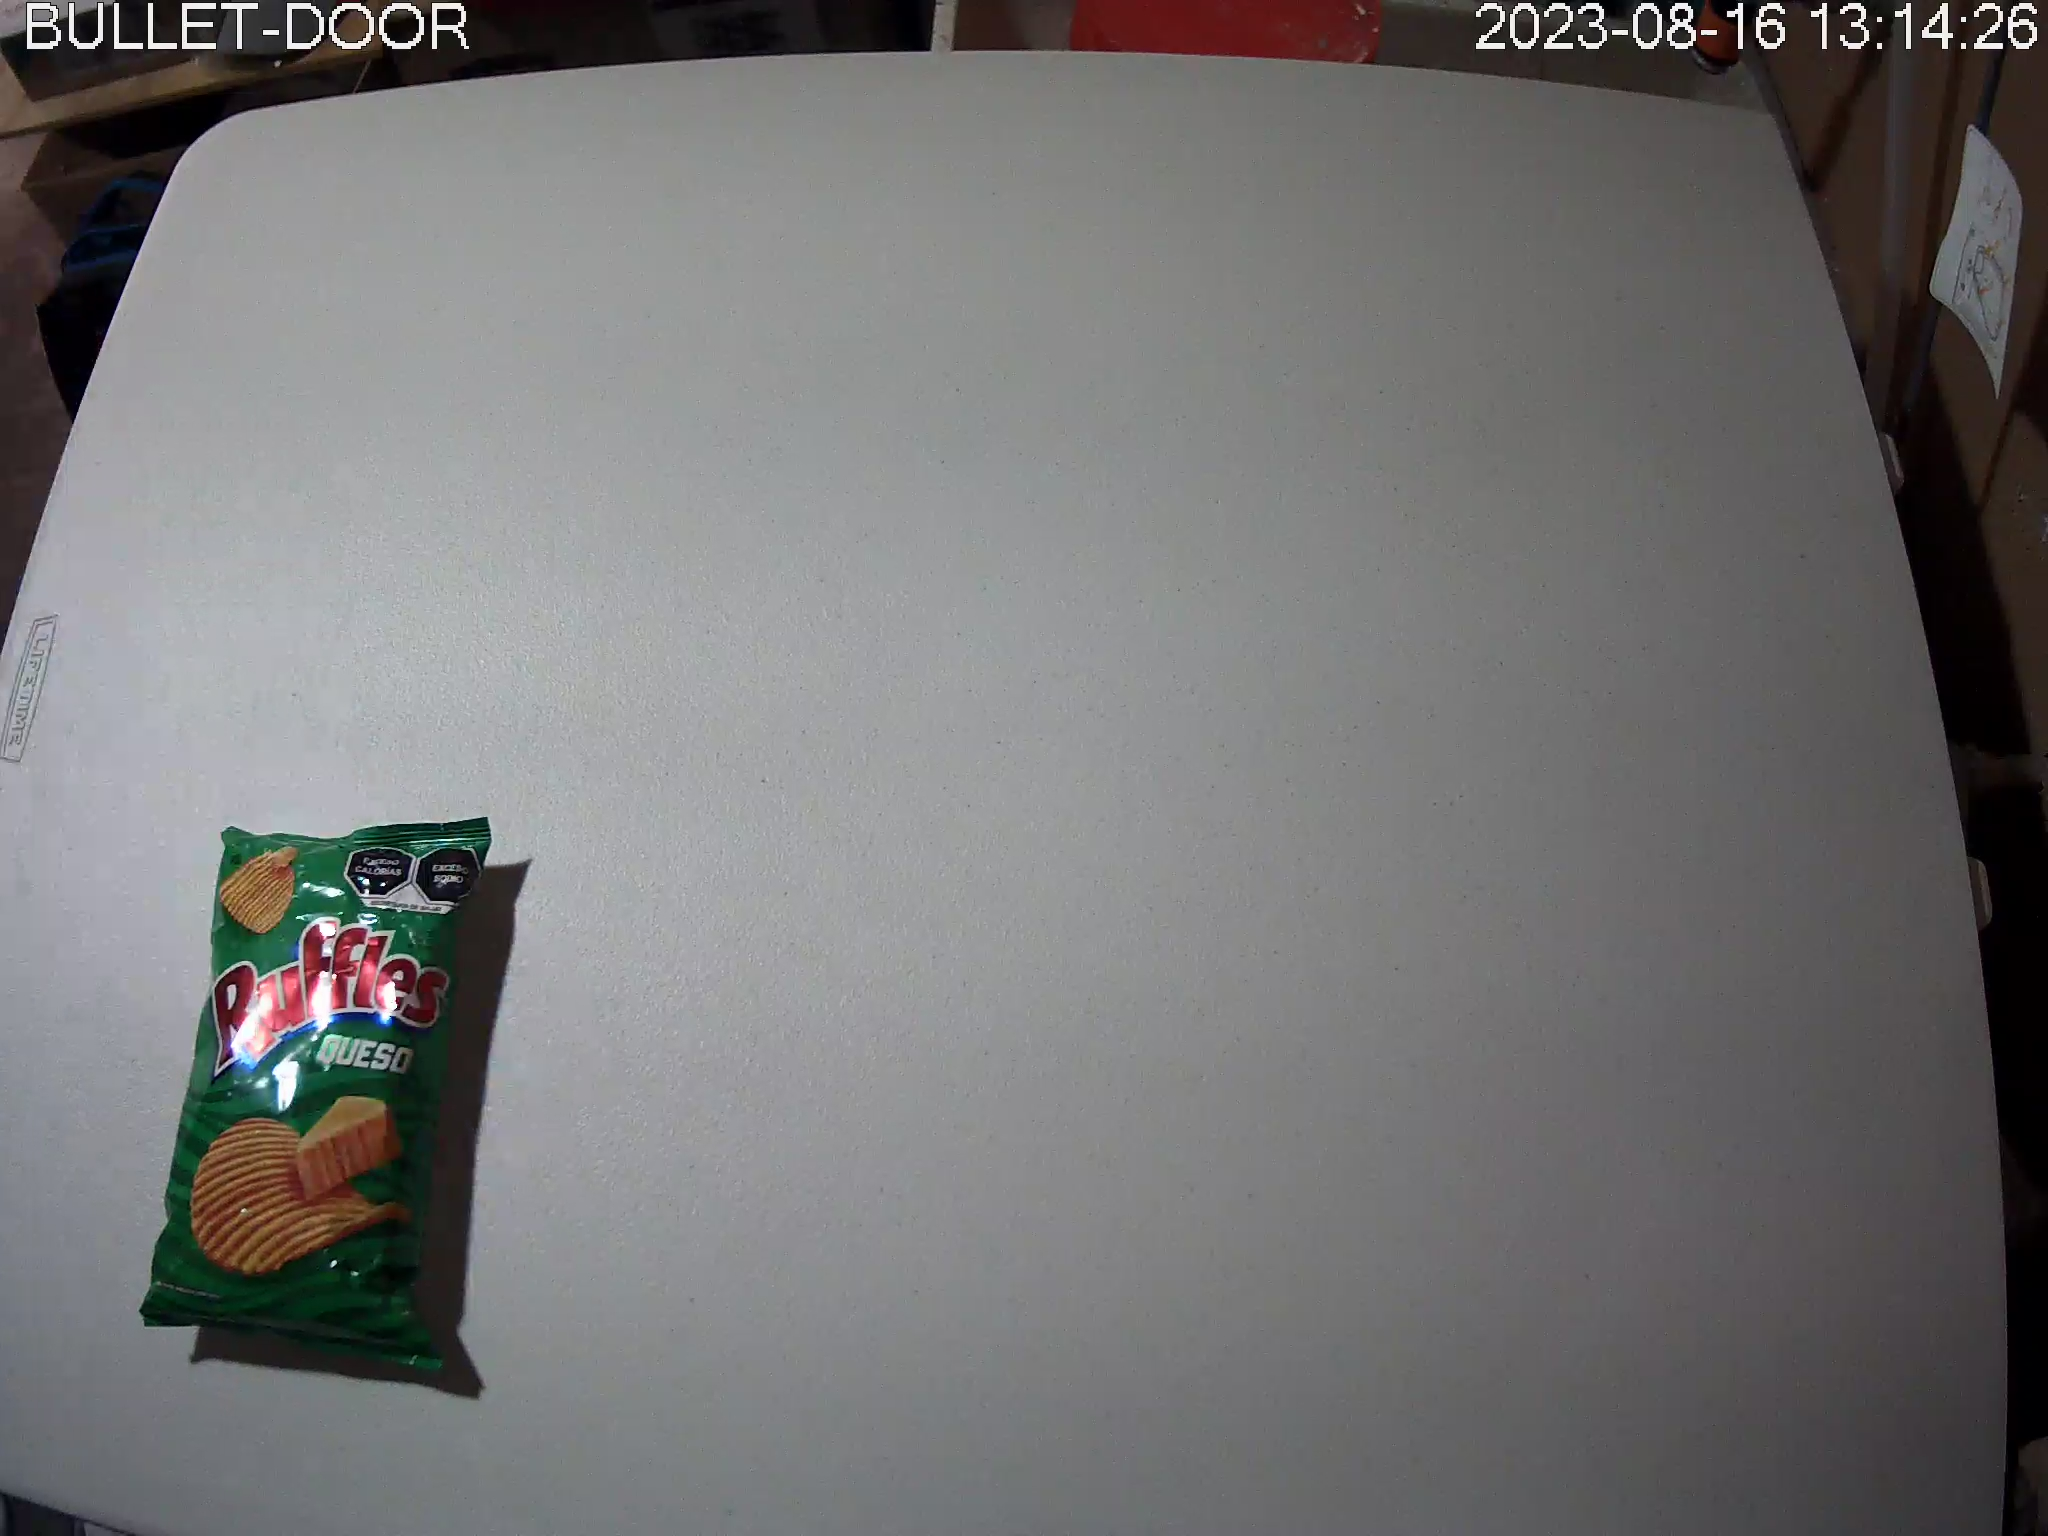RufflesQ_48_F: (140, 815, 497, 1384)
